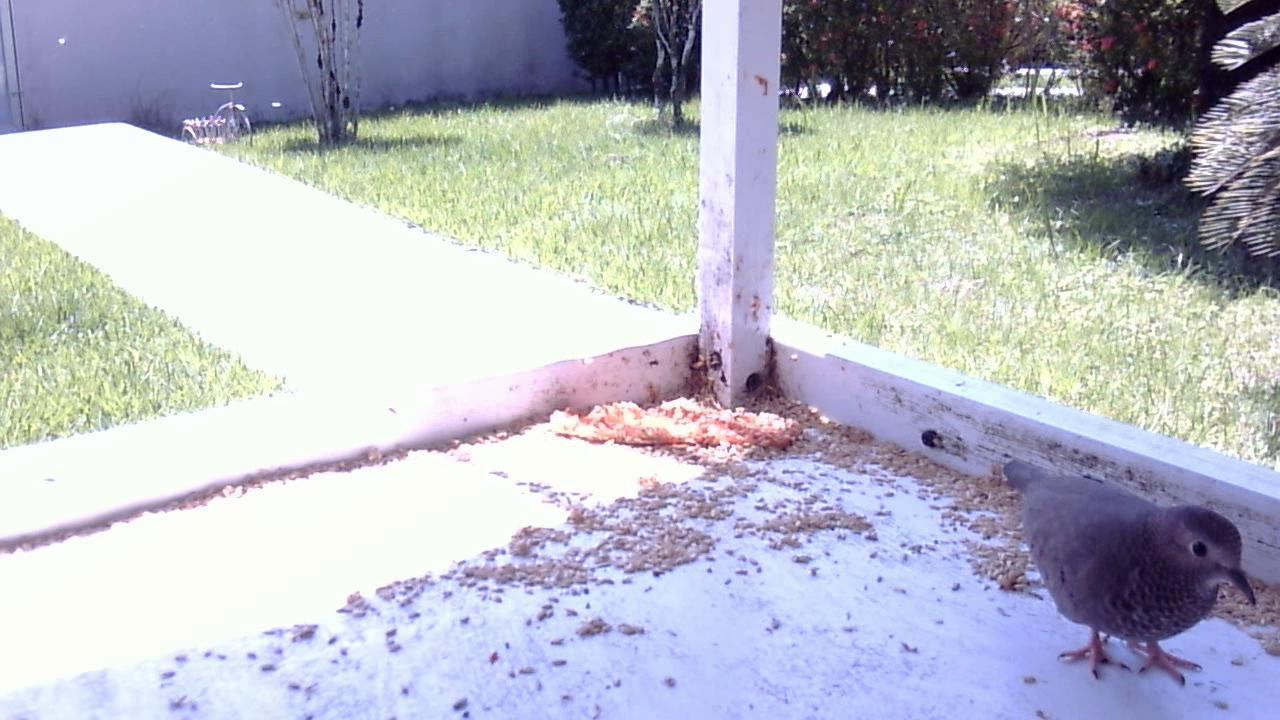rolinha: (977, 445, 1268, 688)
